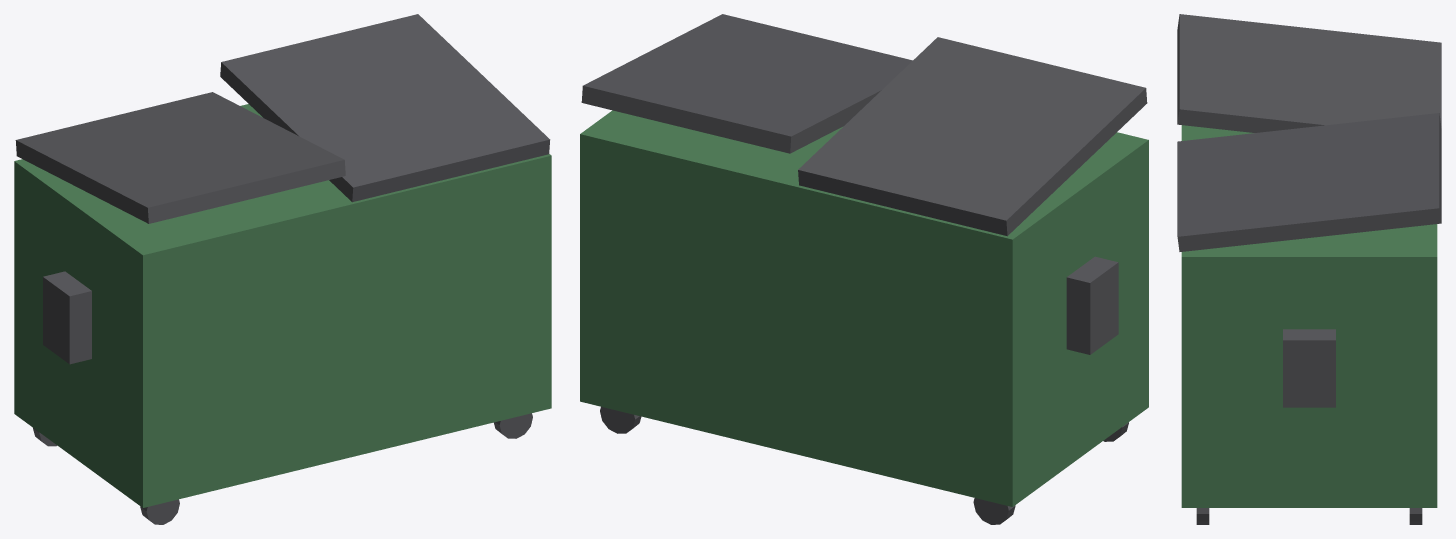
The model's file is dumpster.glb.
3 views of the same model, side by side, from view 1: azimuth 30°, elevation 25°; view 2: azimuth 150°, elevation 25°; view 3: azimuth 270°, elevation 25° (orthographic). The views are drawn at different scales.
Parts seen in each view (by area): view 1: Cube, Cube.002, Cube.001, Cube.003, Cylinder, Cylinder.002; view 2: Cube, Cube.001, Cube.002, Cube.003, Cylinder.001, Cylinder.003; view 3: Cube, Cube.002, Cube.001, Cube.004.
Part boxes in pixels (x1,y1,x2,y2): Cube: (14,104,551,507); Cube.002: (220,14,550,202); Cube.001: (15,92,345,223); Cube.003: (43,271,91,364); Cylinder: (140,499,179,524); Cylinder.002: (494,413,532,438); Cube: (580,110,1148,506); Cube.001: (798,37,1147,236); Cube.002: (581,14,912,153); Cube.003: (1066,256,1118,354); Cylinder.001: (973,498,1015,524); Cylinder.003: (600,406,641,433); Cube: (1181,125,1437,507); Cube.002: (1177,113,1441,251); Cube.001: (1177,14,1441,132); Cube.004: (1283,329,1335,407).
Size of what is drawn, in the model's own units: 2.44 by 1.69 by 1.24.
